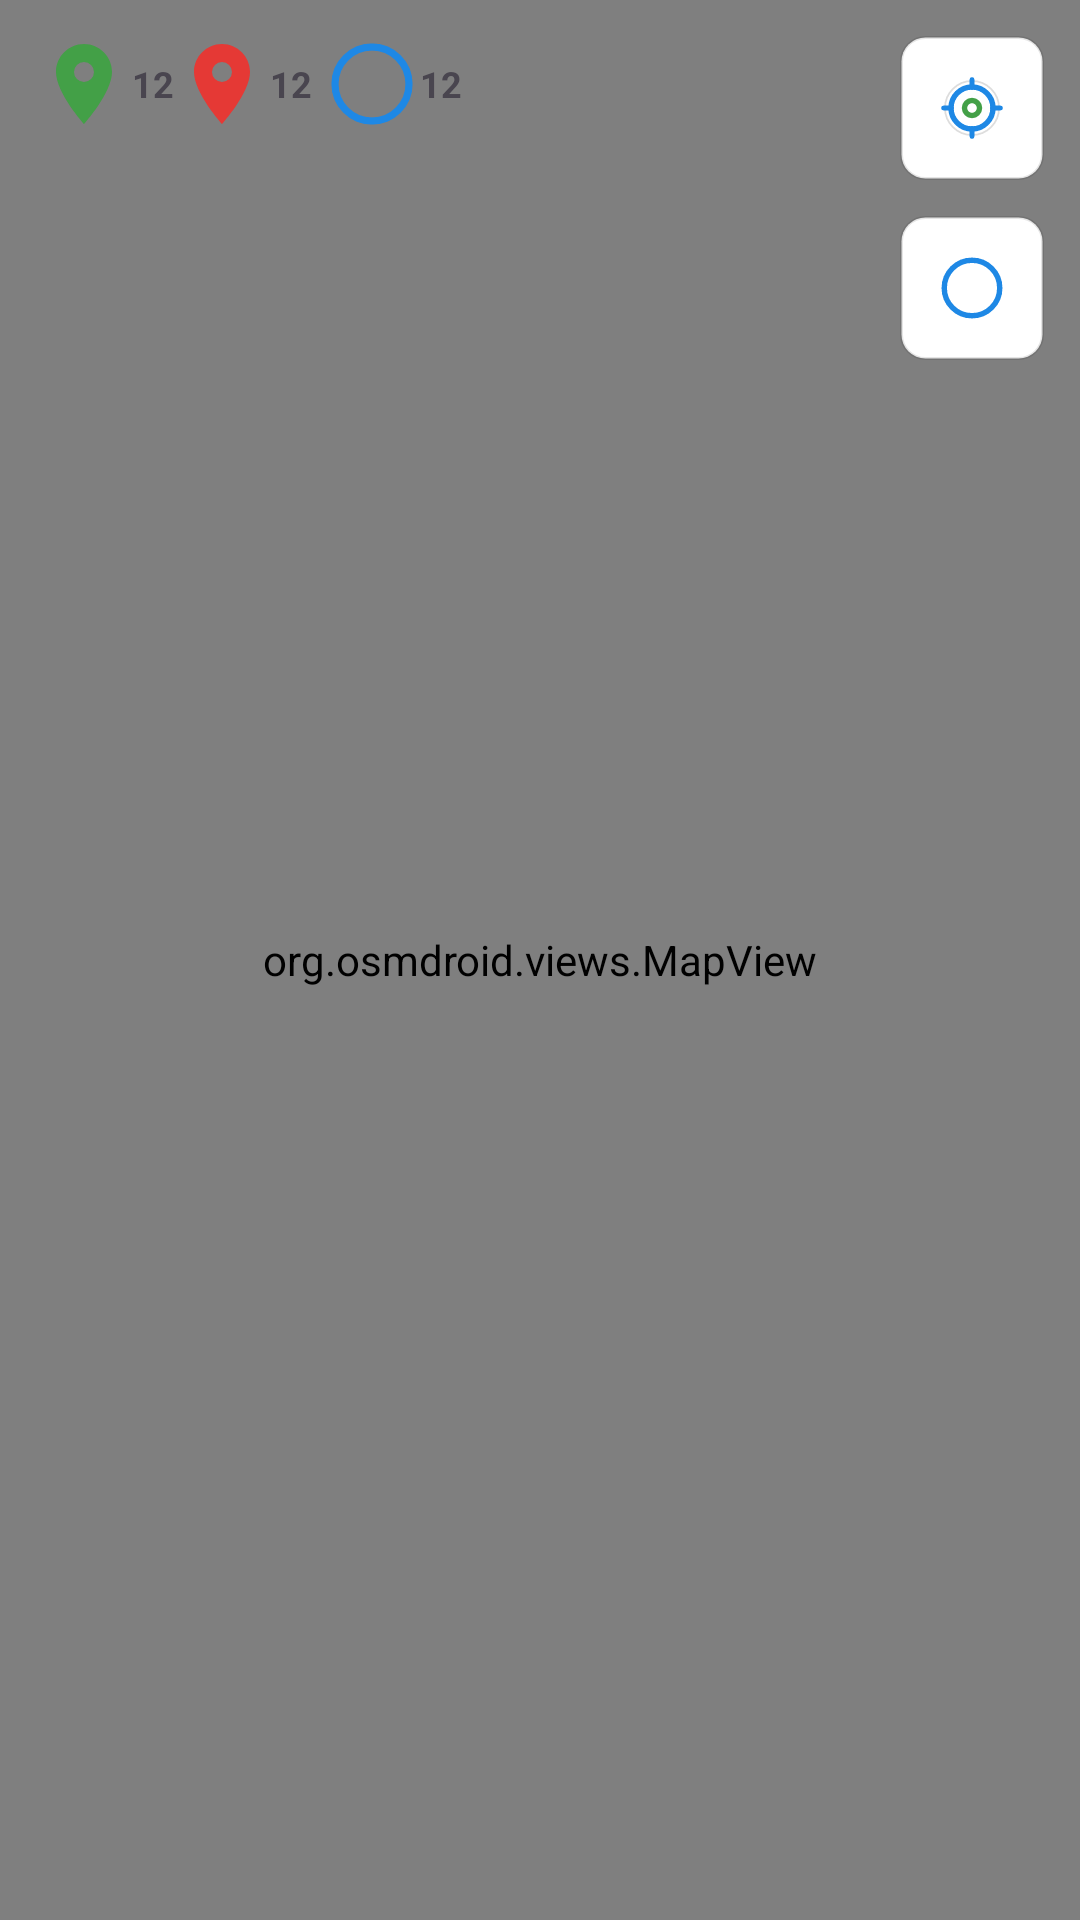

Icons on this 1080px x 1920px Android screen, each with the point to tap as (x,y):
circle: (372,84), (972,288)
location: (972,108), (84,84), (222,84)
